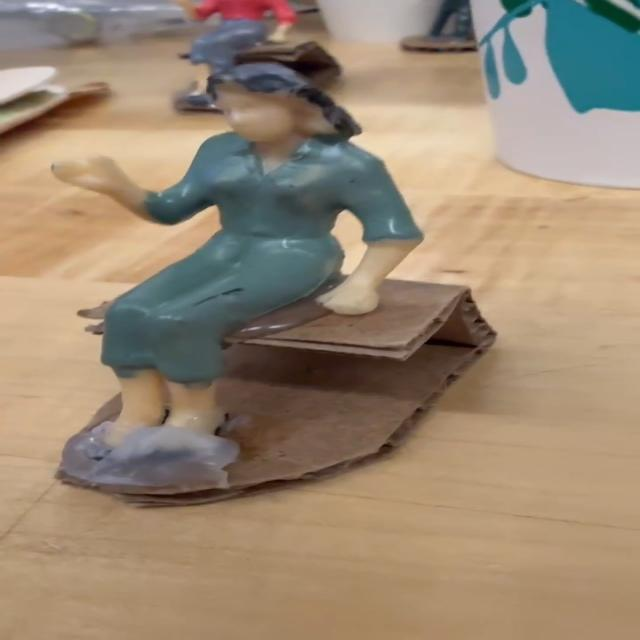Authorized: (0, 75, 458, 496)
